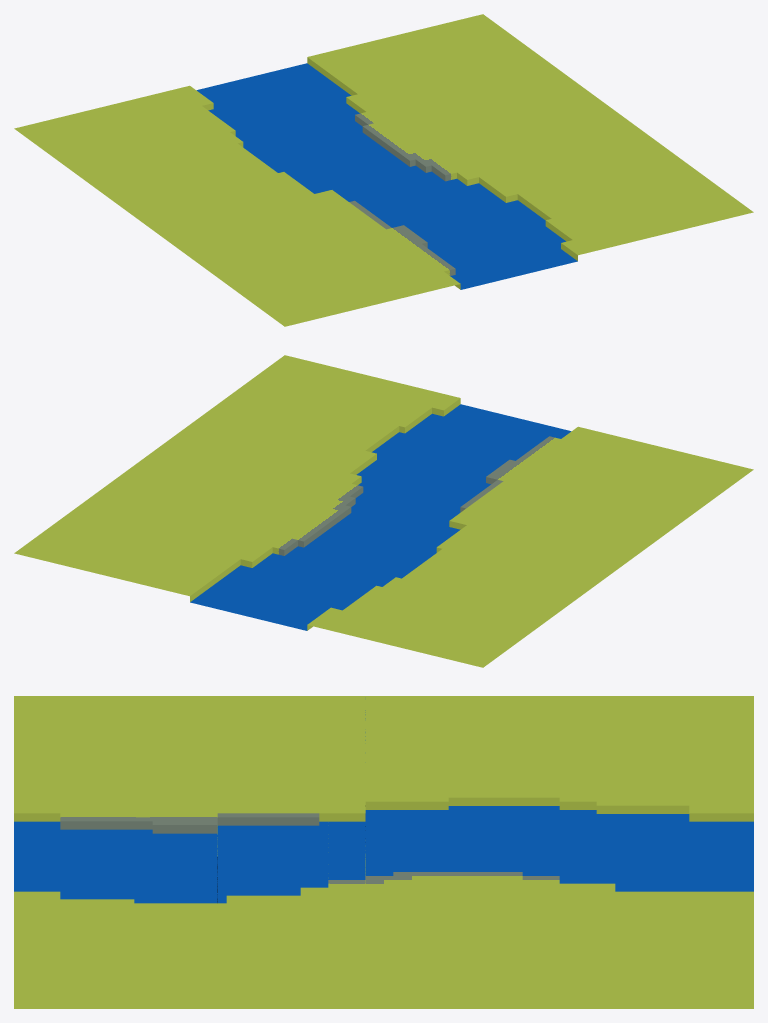
Rendered from MMMMR92(2).glb.
The picture shows the model from 3 angles, top to bottom: view 1: azimuth 30°, elevation 25°; view 2: azimuth 150°, elevation 25°; view 3: azimuth 270°, elevation 25°; orthographic projection. The views are drawn at different scales.
Parts seen in each view (by area): view 1: model_0.041; view 2: model_0.041; view 3: model_0.041.
Boxes of the visible parts, x1=… form: model_0.041: x1=14, y1=14, x2=753, y2=326; model_0.041: x1=14, y1=355, x2=753, y2=667; model_0.041: x1=14, y1=696, x2=753, y2=1008.
Bounding box in the file's own units: 80 × 1 × 80.
Materials: 1 (1 with a texture image).
